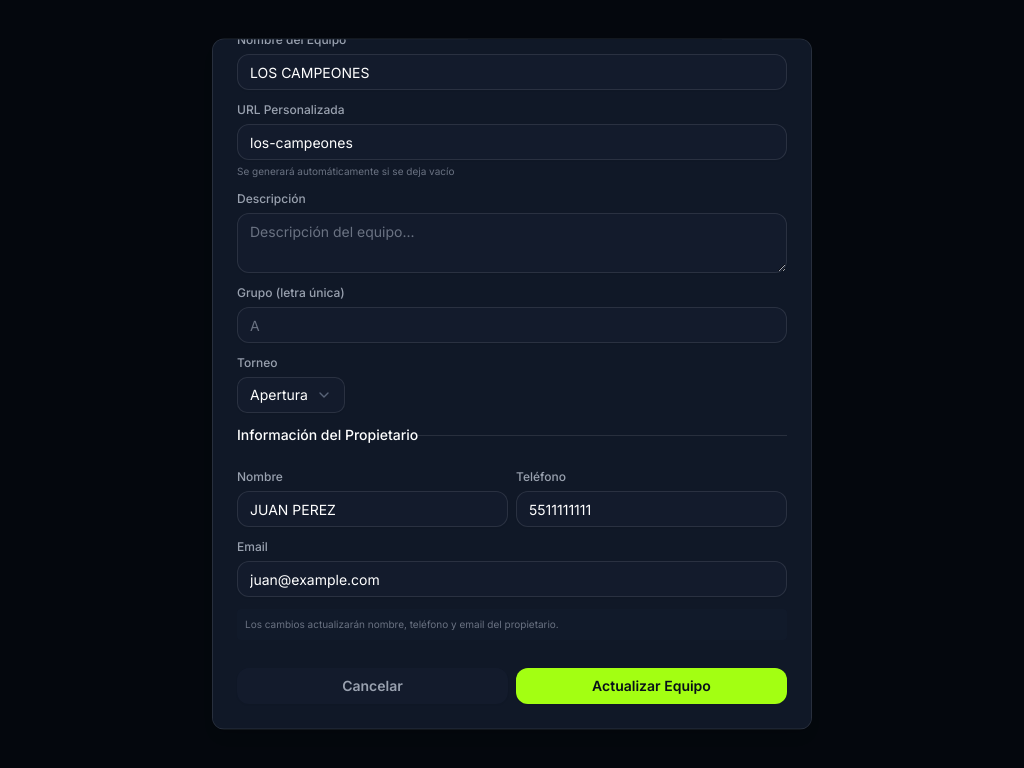
Test case: edit team tournament and owner › shows the tournament field error on 422 and keeps the dialog open
The width and height of the screenshot is (1024, 768).
(page scrolled)
What coordinates should you click on to do the following:
click the button "Actualizar Equipo"
I would click on:
 (652, 686)
Its box is [516,668,787,704].
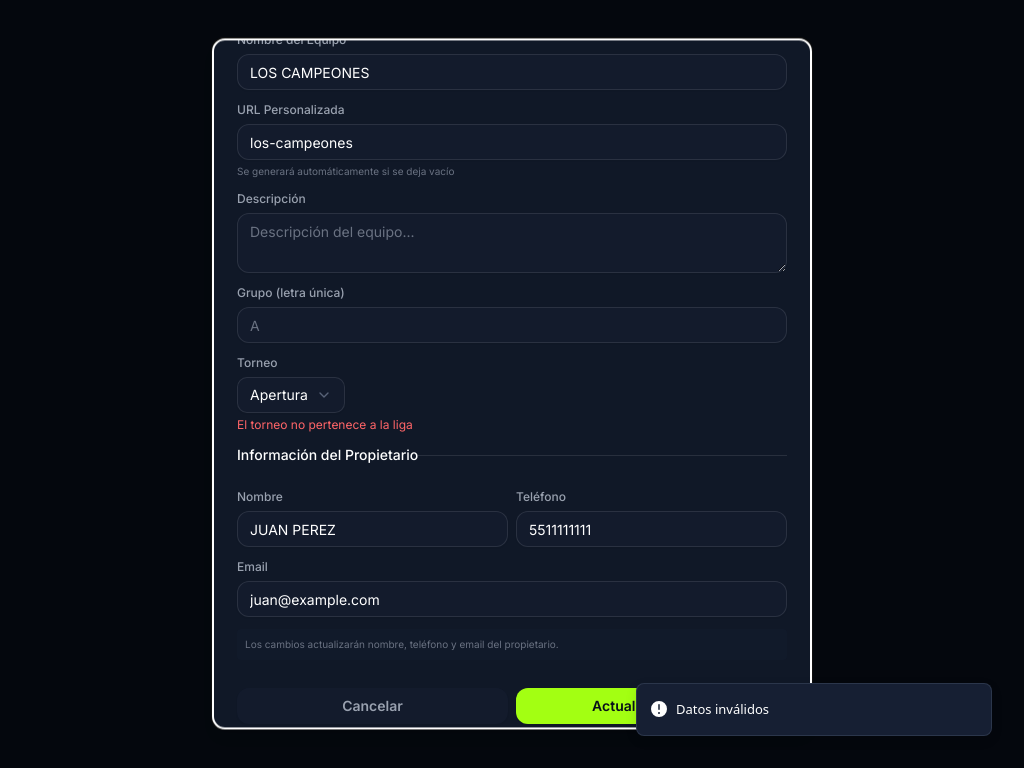
Expected: the text "Datos inválidos" is shown, [676,700,769,719]
